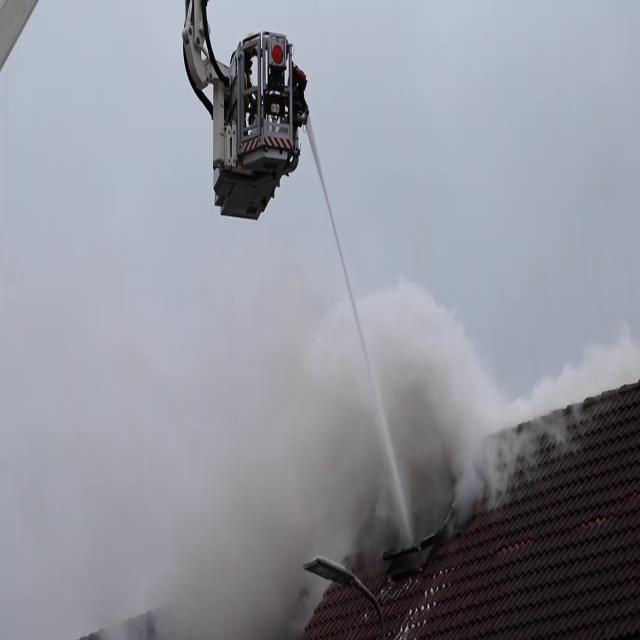Smoke: (12, 227, 536, 611)
